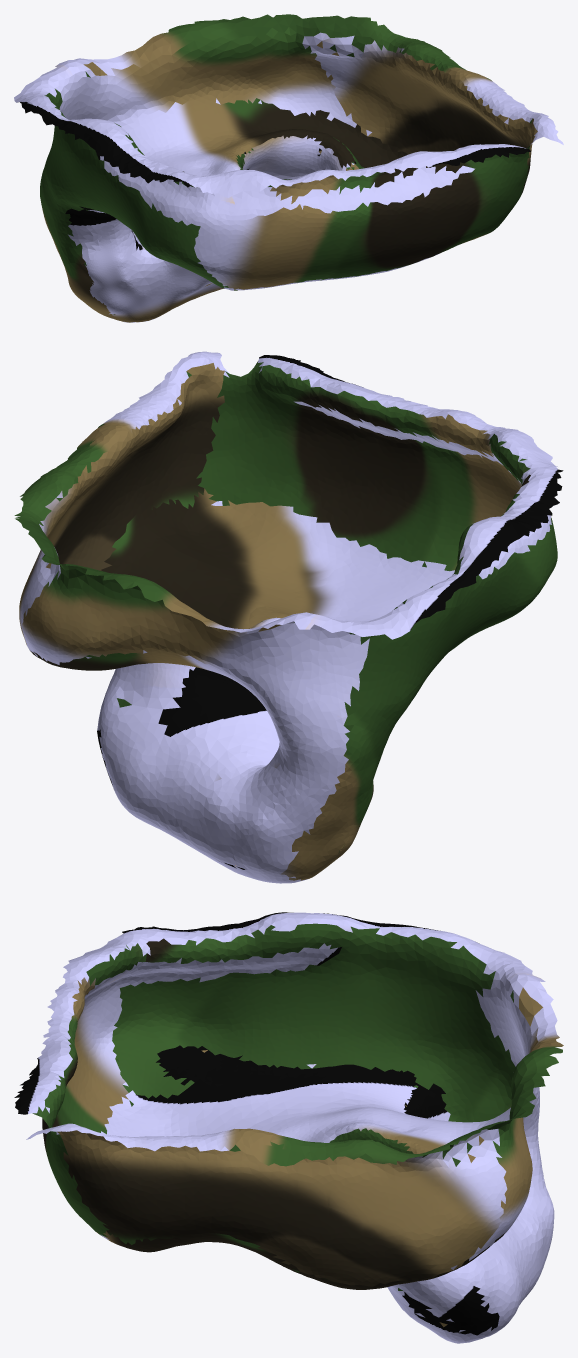
The model's file is terrain.obj.
3 renders of one model, top to bottom at view 1: azimuth 30°, elevation 25°; view 2: azimuth 150°, elevation 25°; view 3: azimuth 270°, elevation 25°, orthographic. The views are drawn at different scales.
Parts seen in each view (by area): view 1: Plane; view 2: Plane; view 3: Plane.
Part boxes in pixels (bbox=[...]): Plane: bbox=[14, 14, 563, 322]; Plane: bbox=[14, 351, 563, 883]; Plane: bbox=[14, 912, 563, 1343].
Size of the model in its own units: 74.48 by 50.13 by 76.32.
1 material, 1 textured.
